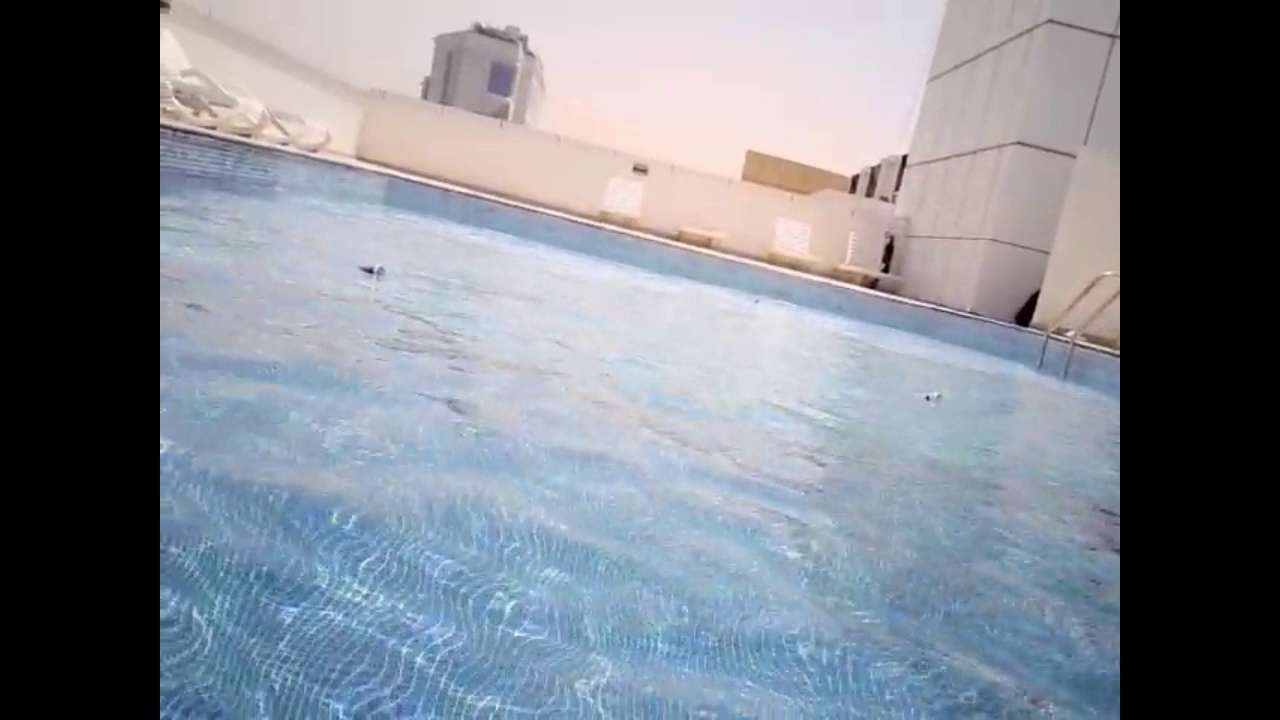debris: (905, 383, 950, 414), (352, 256, 387, 282), (749, 295, 762, 307)
